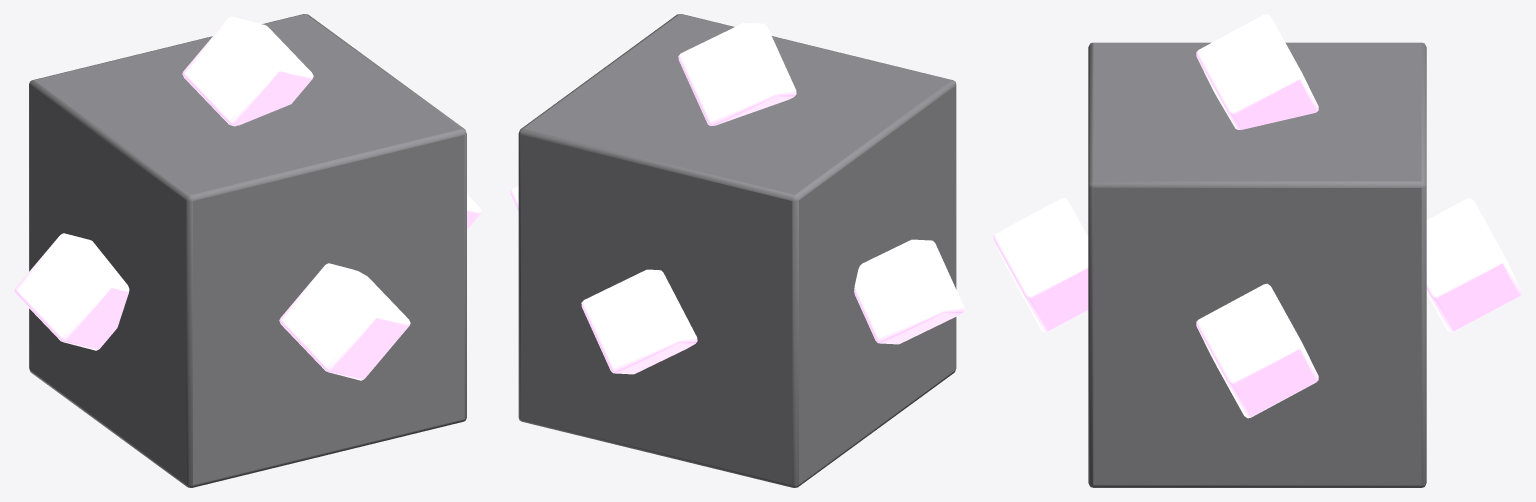
Rendered from SM_REM_ART_MemoryCore.fbx.
3 views of the same model, side by side, from view 1: azimuth 30°, elevation 25°; view 2: azimuth 150°, elevation 25°; view 3: azimuth 270°, elevation 25° (orthographic). The views are drawn at different scales.
Visible parts, largest first — view 1: SM_REM_ART_MemoryCore; view 2: SM_REM_ART_MemoryCore; view 3: SM_REM_ART_MemoryCore.
Part boxes in pixels (box(x1,y1,x2,y2)): SM_REM_ART_MemoryCore: box(14, 14, 481, 487); SM_REM_ART_MemoryCore: box(510, 14, 964, 487); SM_REM_ART_MemoryCore: box(993, 14, 1521, 487).
Size of what is drawn, in the model's own units: 0.1578 by 0.1298 by 0.1562.
